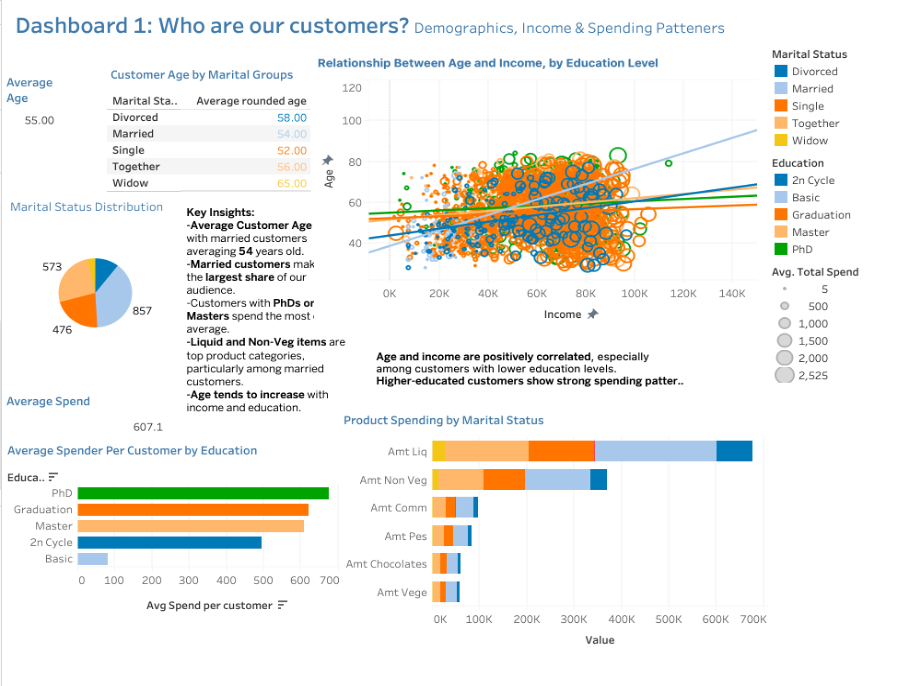

The dashboard page shown, as its layout file describes it:
{"tool":"tableau","page":{"name":"Dashboard 1:Customer Demographics & Behaviour","canvas":[1000,800],"ordinal":0},"visuals":[{"type":"title","box":[8,8,984,42]},{"type":"legend","title":"Average Age by Marital Status","param":"[federated.0yin0b90ktfr8m1gxv2eo0gaev91].[none:Marital_Status:nk]","box":[832,50,160,126]},{"type":"worksheet","title":"Age vs Income","mark":"Automatic","rows":["Calculation_44895318985003008"],"cols":["Income"],"box":[339,61,481,318]},{"type":"worksheet","title":"Average Age by Marital Status","mark":"Automatic","rows":["Marital_Status"],"box":[114,73,222,157]},{"type":"worksheet","title":"Average Age based for 2025","mark":"Automatic","box":[1,82,121,63]},{"type":"legend","title":"Age vs Income","param":"[federated.0yin0b90ktfr8m1gxv2eo0gaev91].[none:Education:nk]","box":[832,176,160,126]},{"type":"worksheet","title":"Total Customers by Marital Status","mark":"Pie","box":[5,226,193,214]},{"type":"text","box":[198,239,179,254]},{"type":"legend","title":"Age vs Income","param":"[federated.0yin0b90ktfr8m1gxv2eo0gaev91].[avg:Calculation_1791095707497103365:qk","box":[832,302,160,146]},{"type":"text","box":[404,401,341,53]},{"type":"worksheet","title":"Average Spend","mark":"Automatic","box":[1,451,178,61]},{"type":"worksheet","title":"Product Spending","mark":"Automatic","box":[367,473,465,283]},{"type":"worksheet","title":"Average Spender Per customer (2)","mark":"Automatic","rows":["Education"],"cols":["Calculation_1791095707500560391"],"box":[2,508,367,285]}]}

Visuals, with their boxes on the page's 1000x800 design canvas (x1, y1, x2, y2). These are canvas units, not pixel positions in the 922x686 screenshot, which may show the page scaled, cropped or inside an application window:
title: bbox=(8, 8, 992, 50)
"Average Age by Marital Status" legend: bbox=(832, 50, 992, 176)
"Age vs Income" worksheet: bbox=(339, 61, 820, 379)
"Average Age by Marital Status" worksheet: bbox=(114, 73, 336, 230)
"Average Age based for 2025" worksheet: bbox=(1, 82, 122, 145)
"Age vs Income" legend: bbox=(832, 176, 992, 302)
"Total Customers by Marital Status" worksheet (Pie marks): bbox=(5, 226, 198, 440)
text: bbox=(198, 239, 377, 493)
"Age vs Income" legend: bbox=(832, 302, 992, 448)
text: bbox=(404, 401, 745, 454)
"Average Spend" worksheet: bbox=(1, 451, 179, 512)
"Product Spending" worksheet: bbox=(367, 473, 832, 756)
"Average Spender Per customer (2)" worksheet: bbox=(2, 508, 369, 793)
